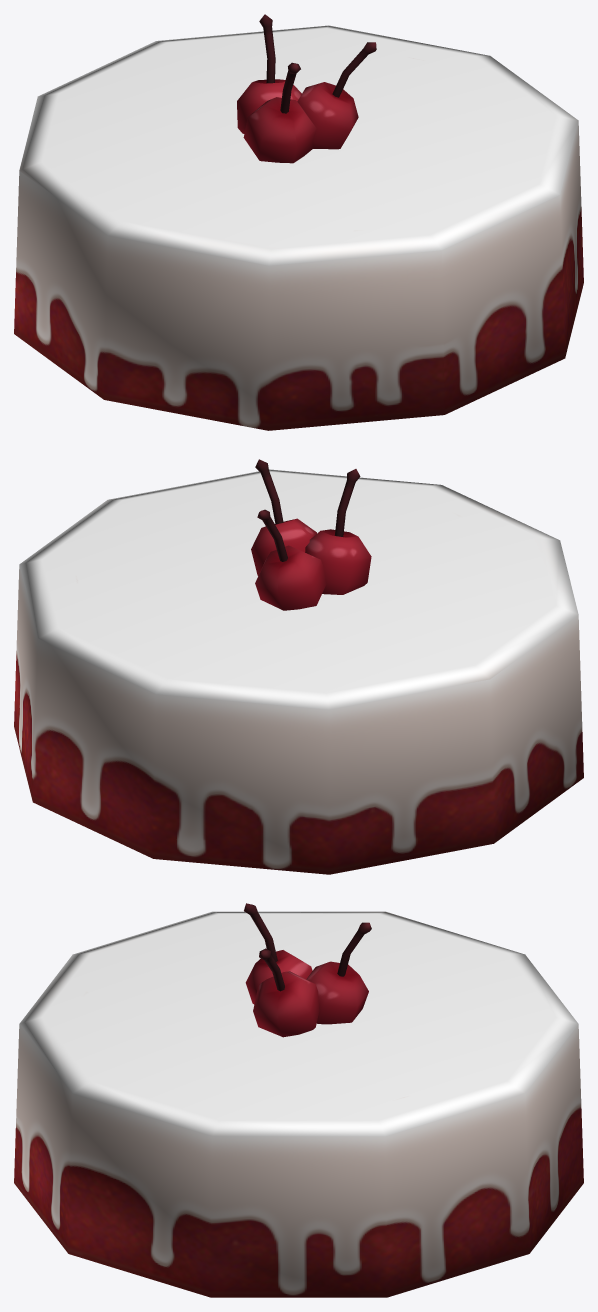
The model's file is Velvet_Whole.fbx.
3 renders of one model, top to bottom at view 1: azimuth 30°, elevation 25°; view 2: azimuth 150°, elevation 25°; view 3: azimuth 270°, elevation 25°, orthographic. The views are drawn at different scales.
Parts seen in each view (by area): view 1: Velvet_Whole; view 2: Velvet_Whole; view 3: Velvet_Whole.
Part boxes in pixels (x1=…): Velvet_Whole: x1=14, y1=14, x2=583, y2=430; Velvet_Whole: x1=14, y1=459, x2=583, y2=874; Velvet_Whole: x1=14, y1=903, x2=583, y2=1297.
Bounding box in the file's own units: 79.02 × 42.73 × 83.09.
